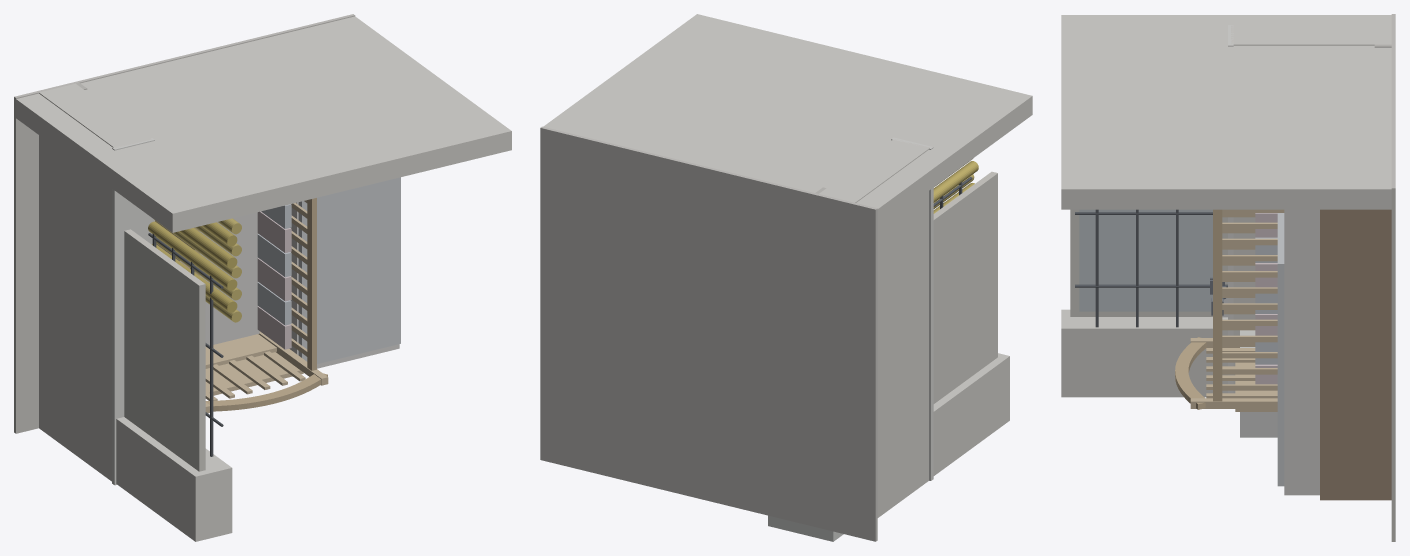
The model's file is crib-rocker-assembly.glb.
The picture shows the model from 3 angles, left to right: view 1: azimuth 30°, elevation 25°; view 2: azimuth 150°, elevation 25°; view 3: azimuth 270°, elevation 25°; orthographic projection. The views are drawn at different scales.
Visible parts, largest first — view 1: wall, crib_frame, window_grill, floor; view 2: floor, wall, window_grill; view 3: wall, window_grill, crib_frame, floor.
Boxes of the visible parts, x1,y1,x2,y2 form: wall: [16, 16, 511, 541]; crib_frame: [155, 198, 328, 413]; window_grill: [124, 229, 223, 471]; floor: [14, 14, 355, 433]; floor: [540, 126, 877, 541]; wall: [543, 14, 1032, 541]; window_grill: [933, 171, 997, 403]; wall: [1061, 15, 1391, 500]; window_grill: [1070, 209, 1227, 327]; crib_frame: [1175, 209, 1284, 411]; floor: [1374, 14, 1395, 541].
Size of the model in its own units: 1.85 by 1.81 by 1.5.
